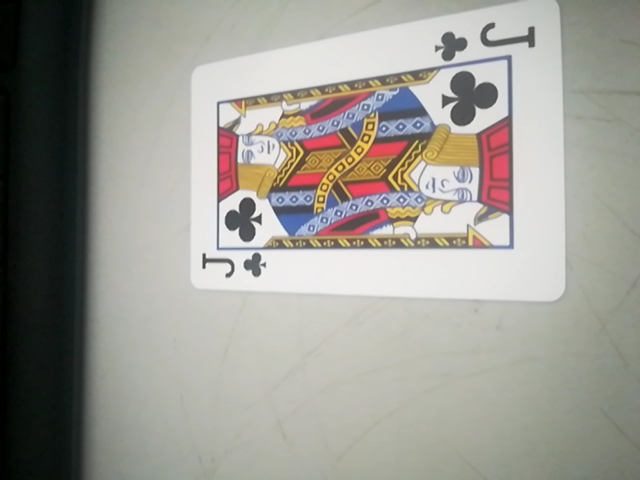mh j: (181, 5, 568, 305)
